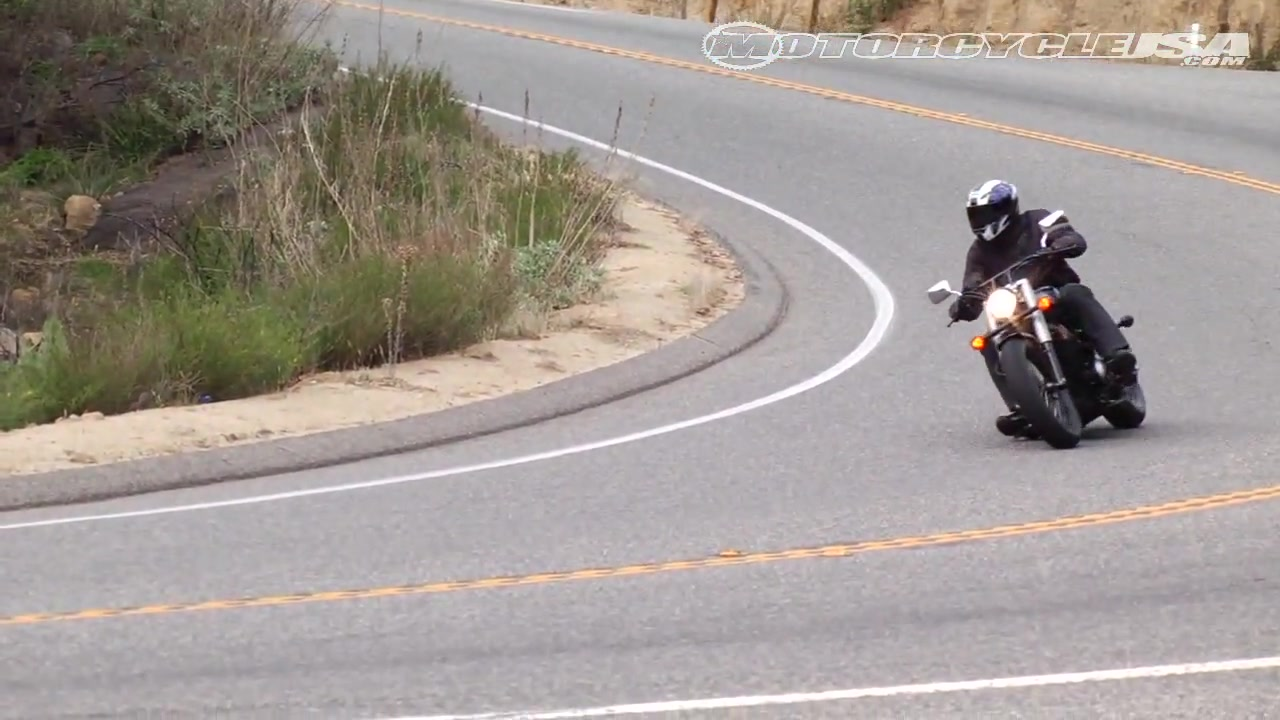motorbike: (923, 215, 1150, 449)
